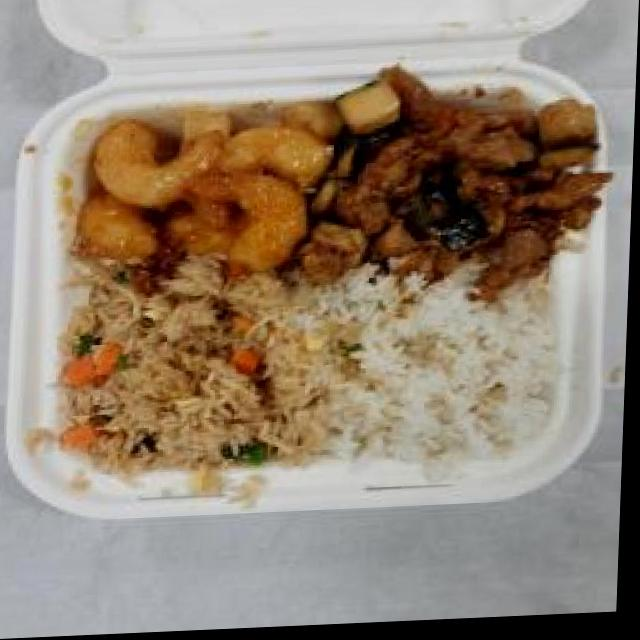Fried Rice: (51, 273, 335, 491)
Honey Walnut Shrimp: (64, 98, 350, 295)
Kung Pao Chicken: (299, 60, 621, 299)
White Steamed Rice: (324, 283, 569, 476)
